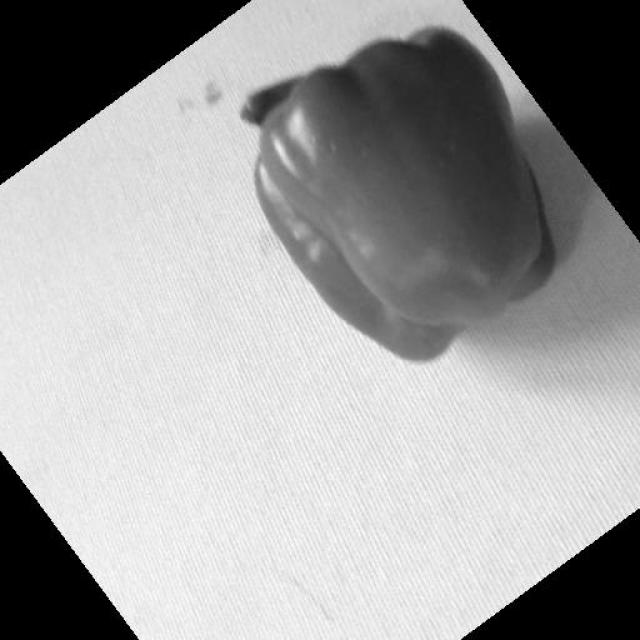Fresh_Capsicum: (222, 66, 596, 360)
